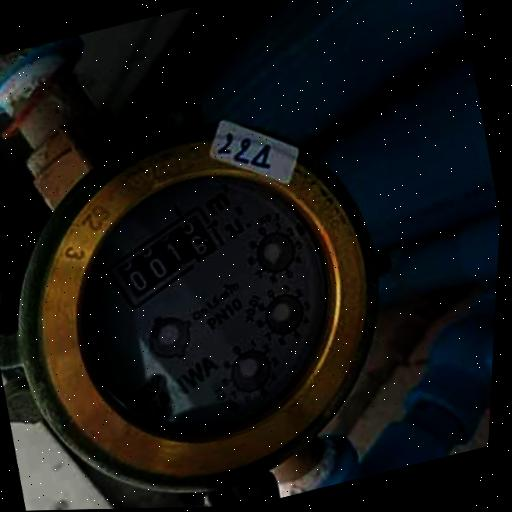0: (112, 250, 160, 302), (131, 238, 179, 289)
1: (150, 223, 199, 275)
6: (172, 209, 222, 266)
border_water_meter_number: (93, 197, 238, 316)
